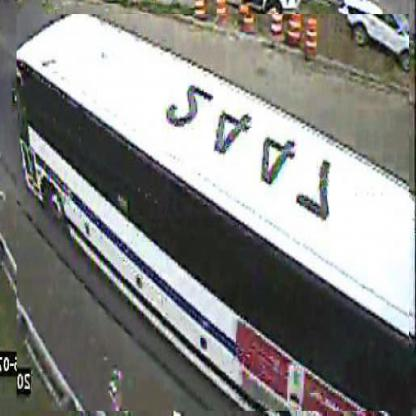bus: (17, 15, 410, 413)
